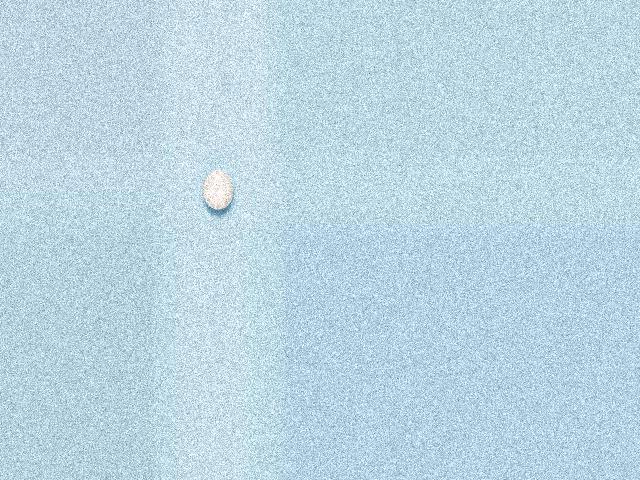egg: (203, 169, 233, 210)
